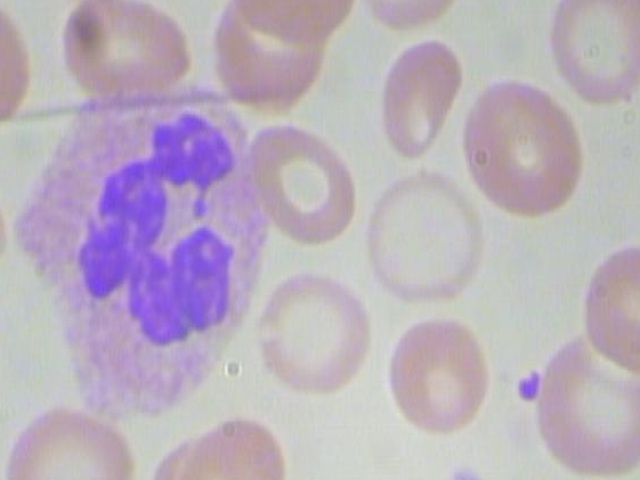Platelets: (513, 366, 552, 407), (440, 461, 491, 480)
RBC: (456, 74, 588, 227), (357, 166, 486, 316), (248, 260, 377, 403), (528, 320, 640, 480), (238, 115, 361, 253), (46, 0, 200, 105), (386, 307, 500, 442), (0, 402, 144, 480), (381, 25, 461, 163), (550, 0, 640, 114), (159, 411, 296, 480), (576, 237, 640, 379), (235, 0, 367, 46), (356, 0, 465, 39)
WBC: (11, 78, 287, 427)
